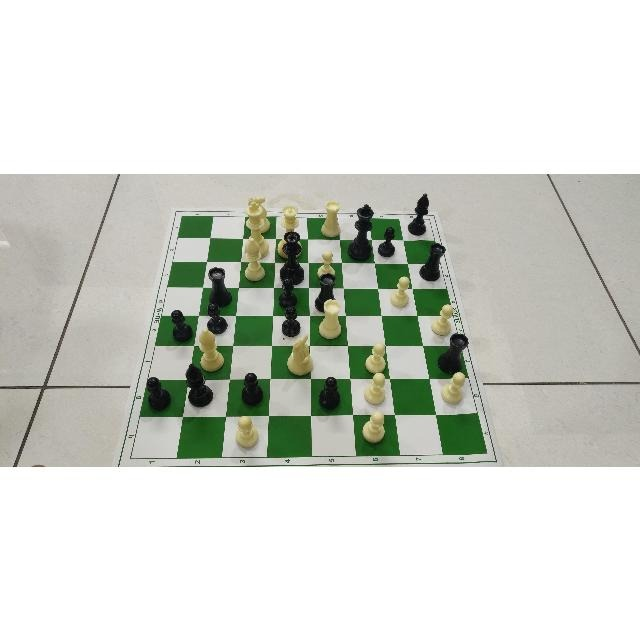black-bishop: (183, 362, 218, 409), (407, 189, 432, 237)
black-king: (346, 202, 375, 257)
black-pawn: (146, 376, 172, 410), (318, 375, 341, 411), (240, 371, 264, 405), (170, 308, 194, 340), (206, 304, 228, 332), (281, 306, 300, 336), (377, 226, 396, 256), (278, 277, 298, 305)
black-queen: (279, 229, 304, 283)
black-rook: (439, 332, 469, 372), (418, 241, 445, 280), (207, 265, 232, 305), (315, 272, 337, 308)
white-bishop: (199, 328, 227, 370), (244, 236, 265, 280)
white-king: (246, 200, 270, 256)
white-knight: (285, 331, 314, 375), (247, 196, 270, 226)
white-pawn: (442, 367, 470, 407), (429, 300, 456, 335), (363, 370, 389, 406), (233, 414, 260, 448), (361, 410, 387, 444), (389, 273, 412, 308), (365, 340, 389, 372), (314, 249, 337, 276)
white-queen: (277, 205, 302, 257)
white-rook: (319, 298, 343, 338), (321, 200, 341, 236)
